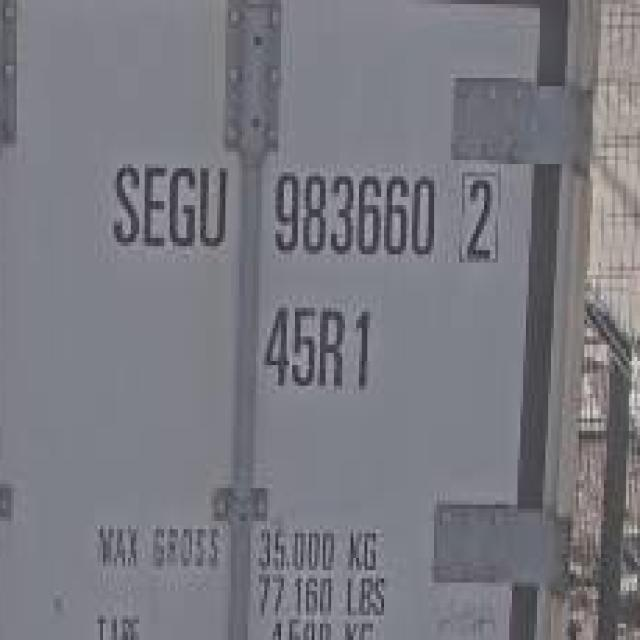dv: (454, 162, 506, 271)
owner: (104, 158, 234, 254)
serial: (266, 158, 441, 264)
size: (254, 293, 381, 397)
